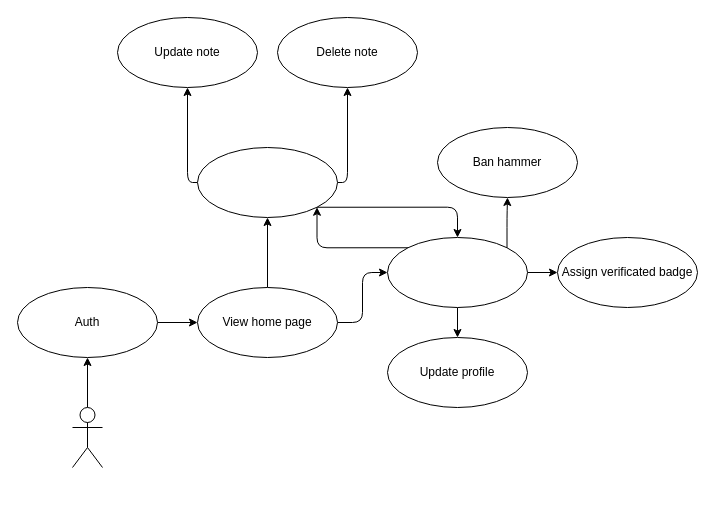
Some shapes in this 715 by 506 pixel diagram are drawn without their labels. Each missing label, with the centre of its shape:
"Admin" goes at point 87,437.
"View notes" goes at point 267,182.
"View profiles" goes at point 457,272.
